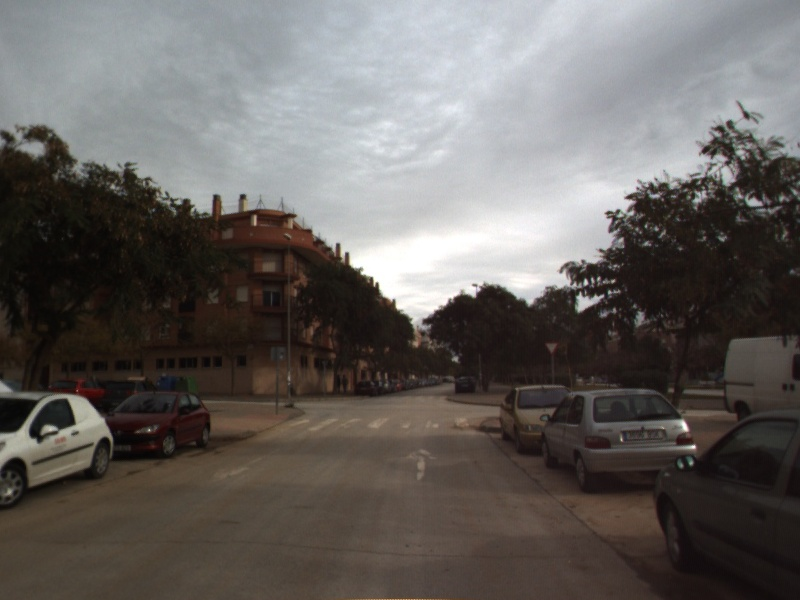STRAIGHT: (403, 446, 441, 483)
